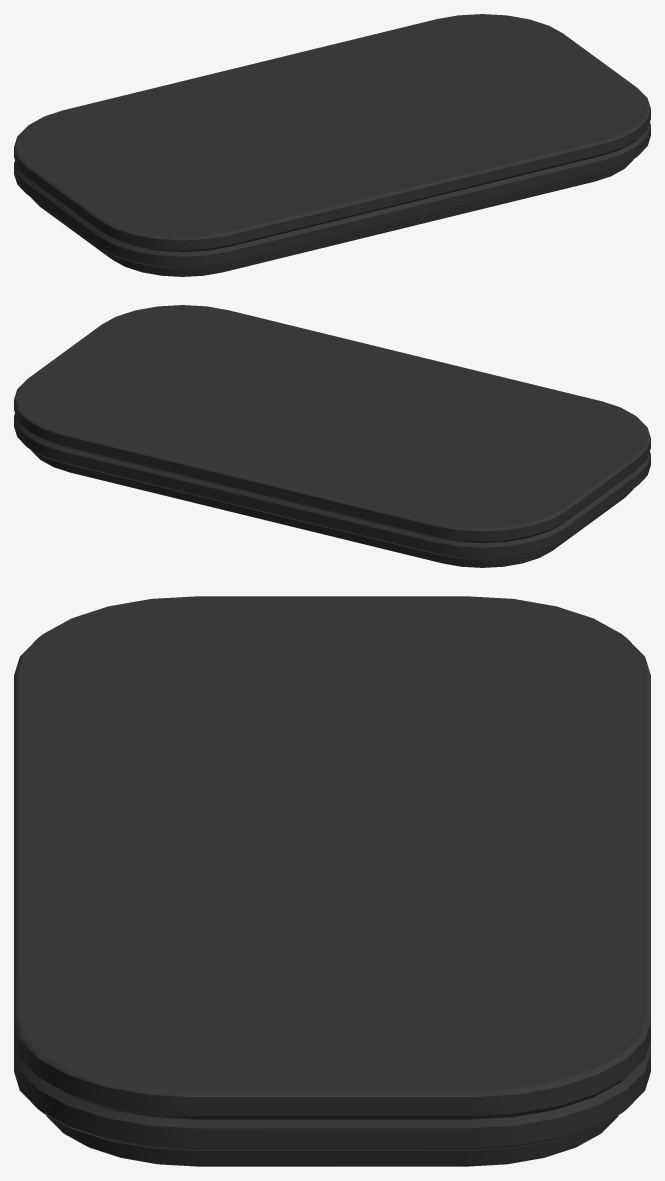
The model's file is Checker_Box_Cup_01.fbx.
3 views of the same model, one above another, from view 1: azimuth 30°, elevation 25°; view 2: azimuth 150°, elevation 25°; view 3: azimuth 270°, elevation 25° (orthographic). The views are drawn at different scales.
Parts seen in each view (by area): view 1: Checker_Box_Cup_01; view 2: Checker_Box_Cup_01; view 3: Checker_Box_Cup_01.
Part boxes in pixels (box(x1,y1,x2,y2)): Checker_Box_Cup_01: box(14, 14, 650, 276); Checker_Box_Cup_01: box(14, 305, 650, 567); Checker_Box_Cup_01: box(14, 596, 650, 1166).
Size of the model in its own units: 16.89 by 1.38 by 9.13.
